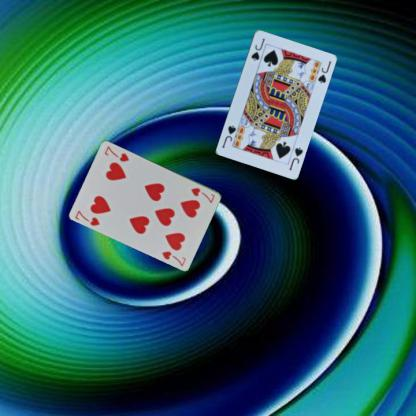7h: (73, 207, 101, 227), (188, 185, 216, 204)
Js: (248, 35, 266, 62), (286, 144, 304, 171)
